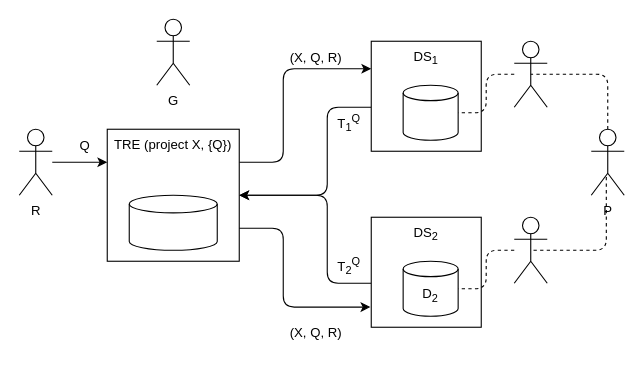
The diagram is 644 pixels wide and 369 high, and some of its shapes have lost their labels. Here are the shapes that lost their labels. From the top down, the centre of each, then its label:
At point 530,73: "DC 1".
At point 430,112: "D 1".
At point 172,222: "T Q =T 1 Q +T 2 Q".
At point 530,249: "DC 2".
